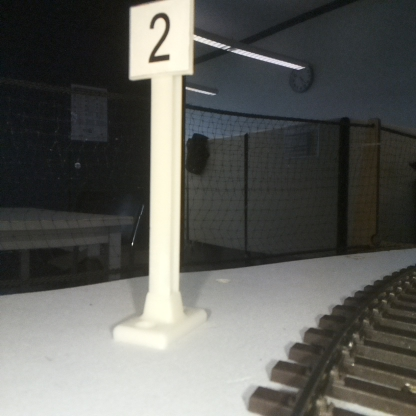white-info-2: (130, 4, 191, 340)
